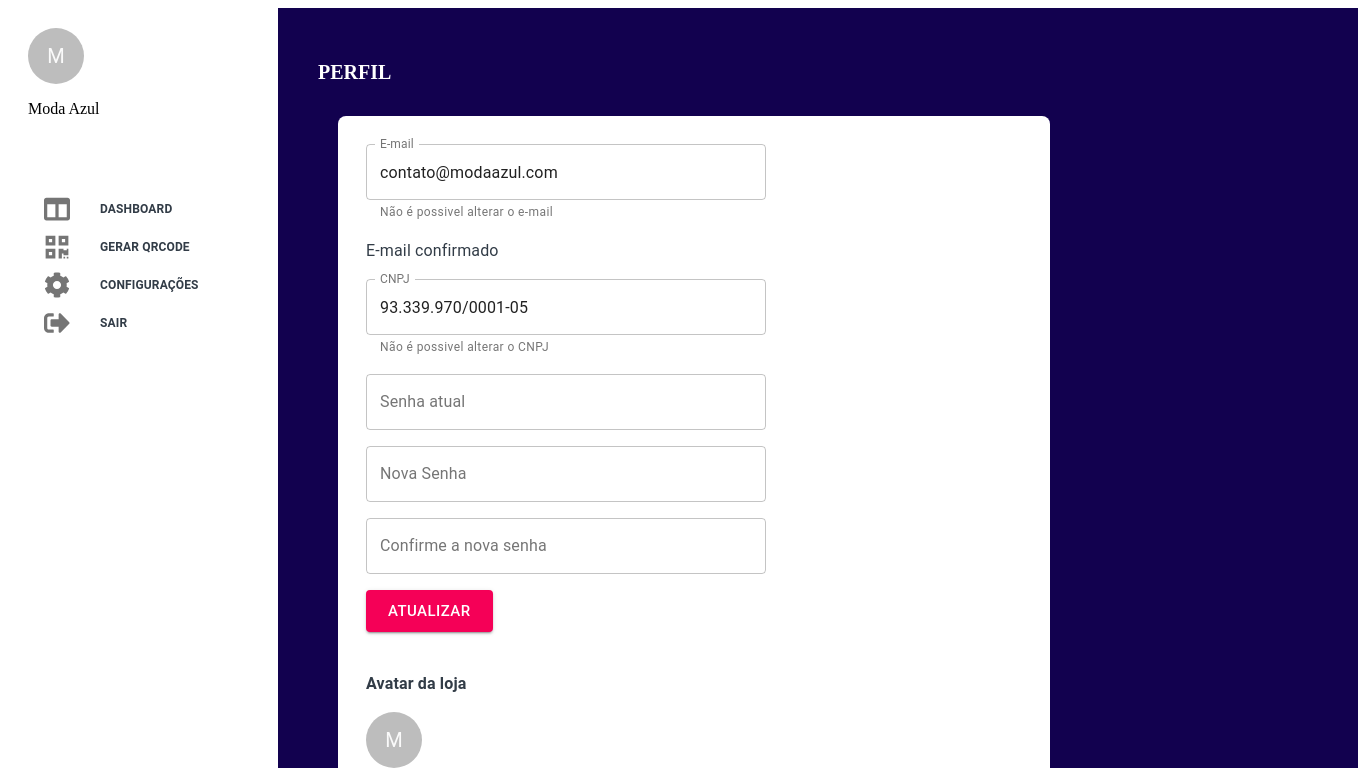
Test: Configurações do estabelecimento › troca bem-sucedida: envia token e senhas, avisa e esvazia os campos
The width and height of the screenshot is (1366, 768).
In the password field labelled "Senha atual": (566, 402) [366,374,766,430], type "senha-antiga-1"
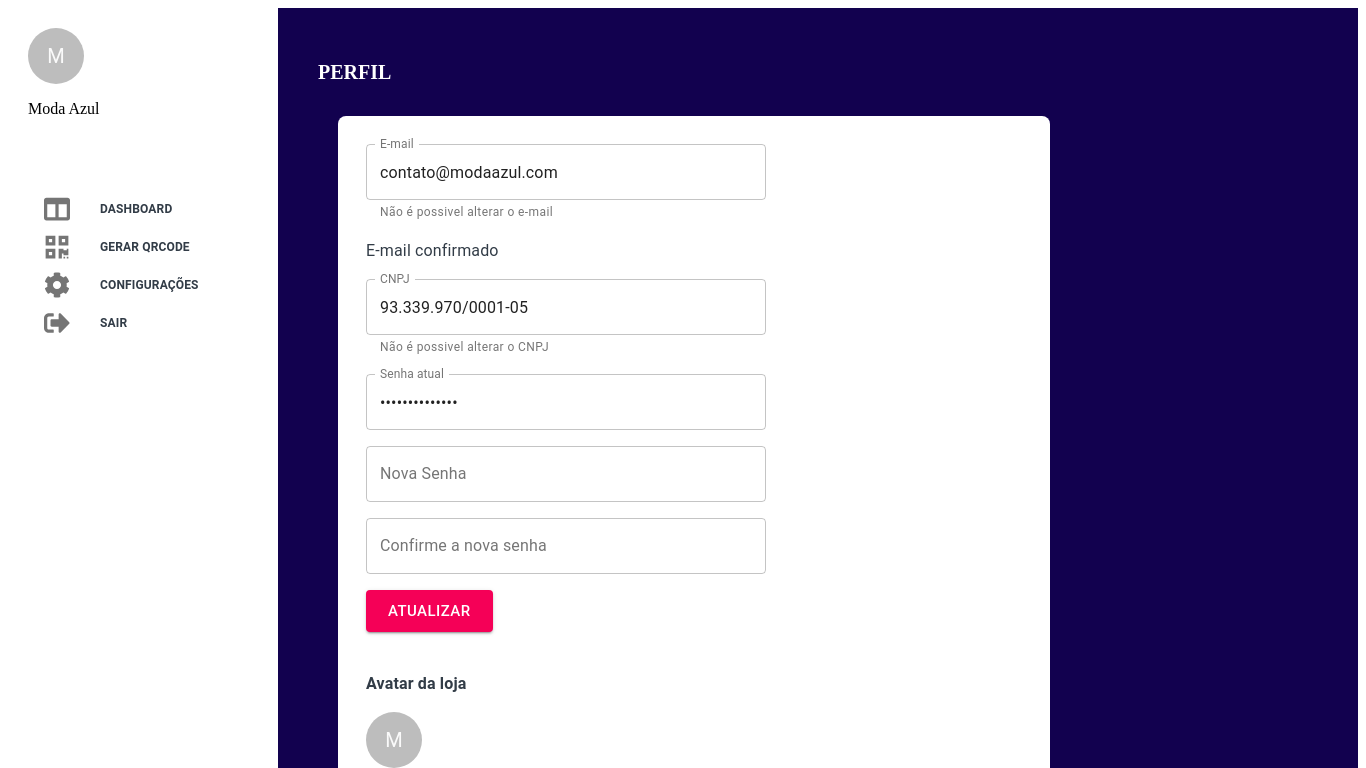
In the password field labelled "Nova Senha": (566, 474) [366,446,766,502], type "senha-nova-22"
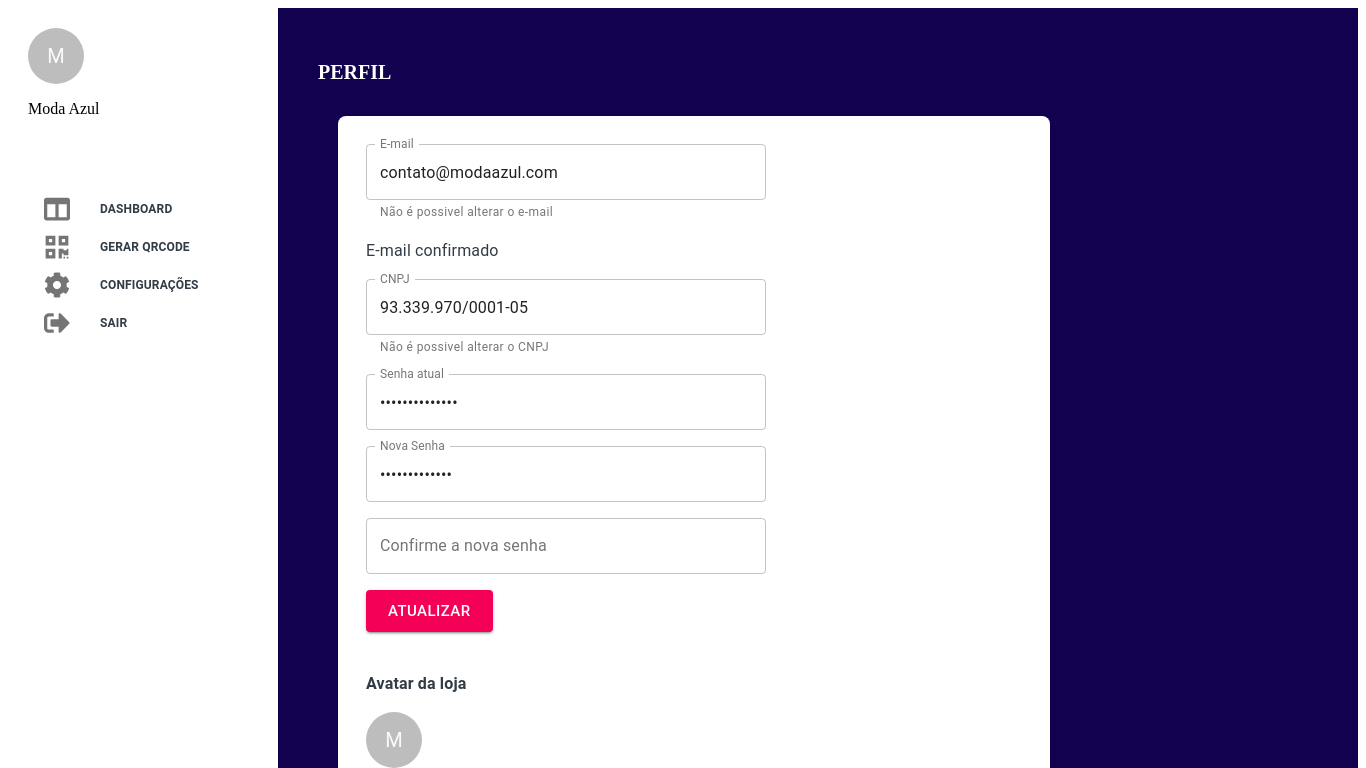
In the password field labelled "Confirme a nova senha": (566, 546) [366,518,766,574], type "senha-nova-22"
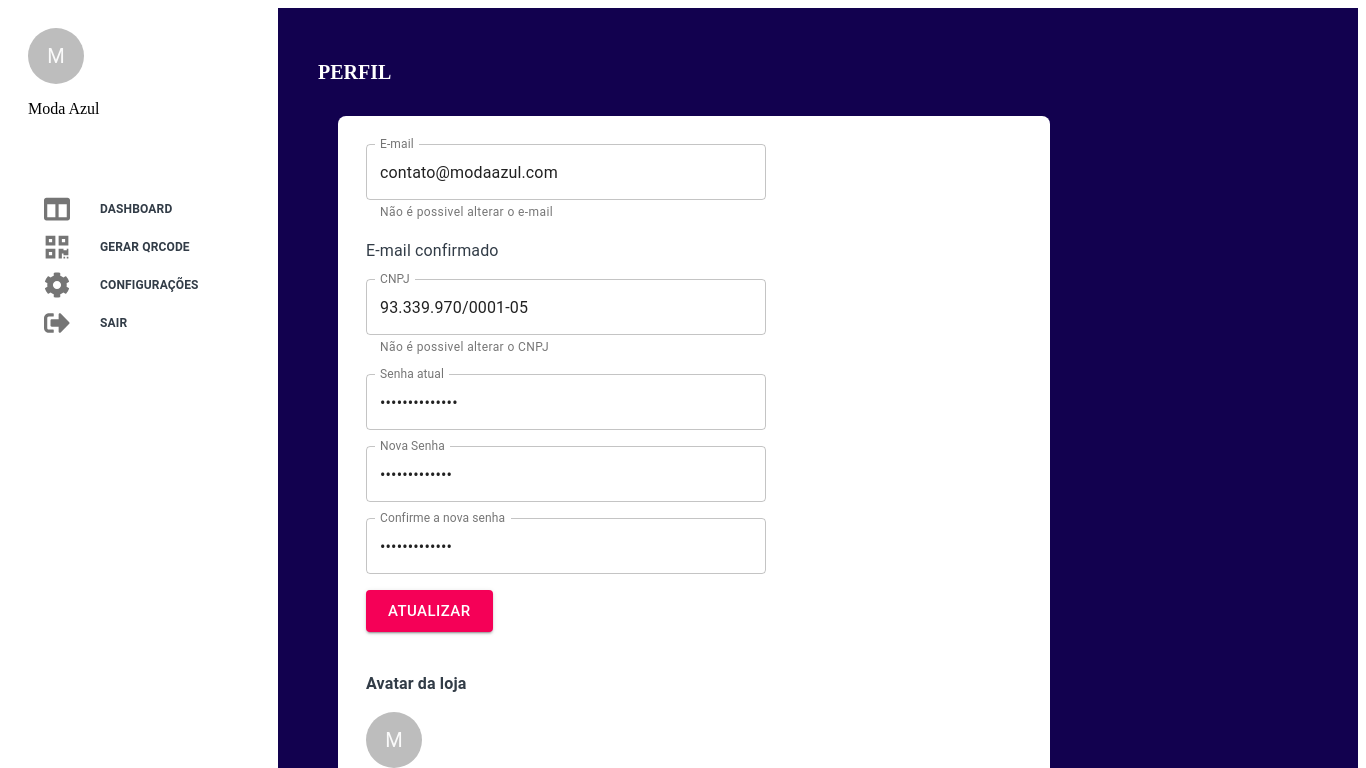
Submit the form named "Nova Senha", box [366,137,766,632]
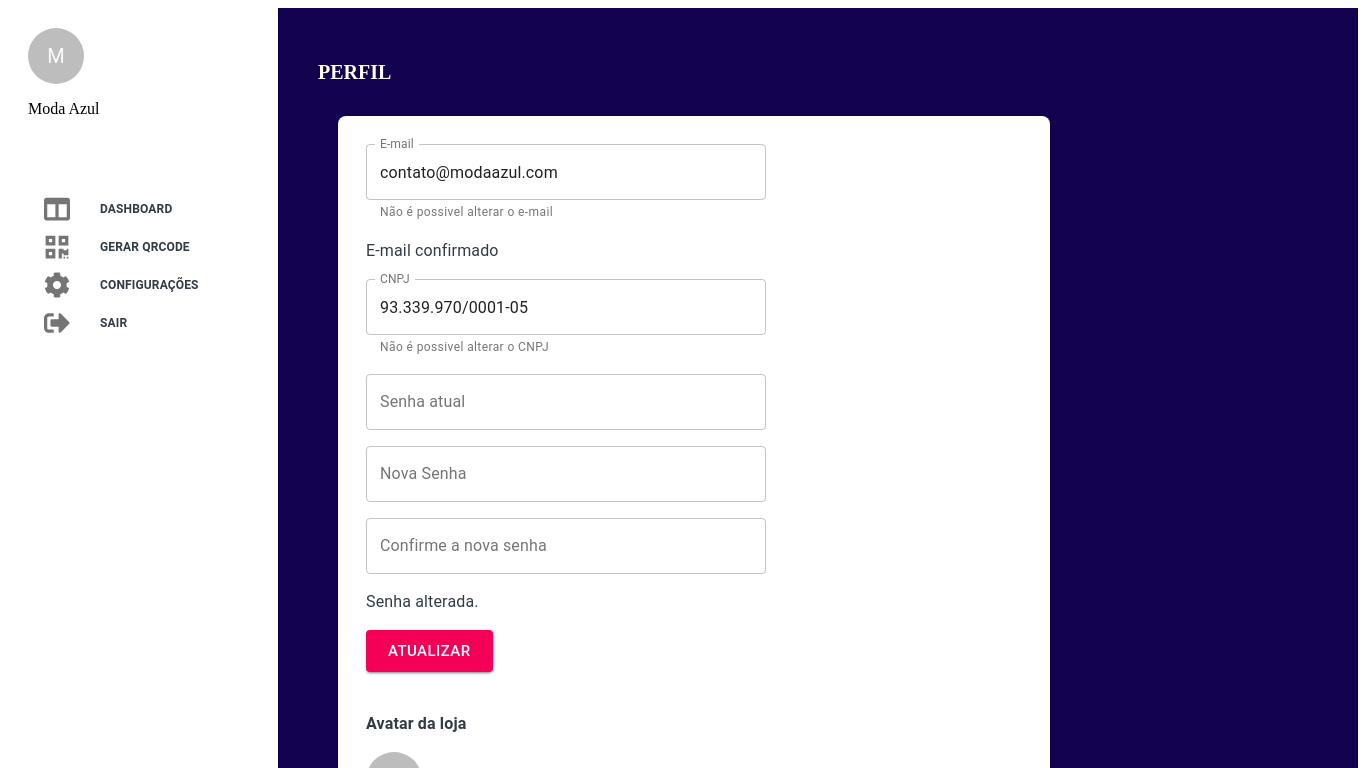
Now the text "Senha alterada." is shown, box [366,592,479,611]
Now the password field labelled "Senha atual" is empty, box [366,374,766,430]
Now the password field labelled "Nova Senha" is empty, box [366,446,766,502]
